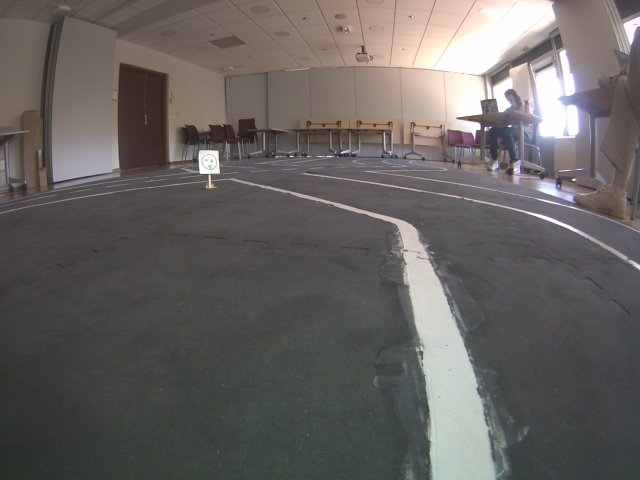Smiley: (198, 150, 220, 175)
